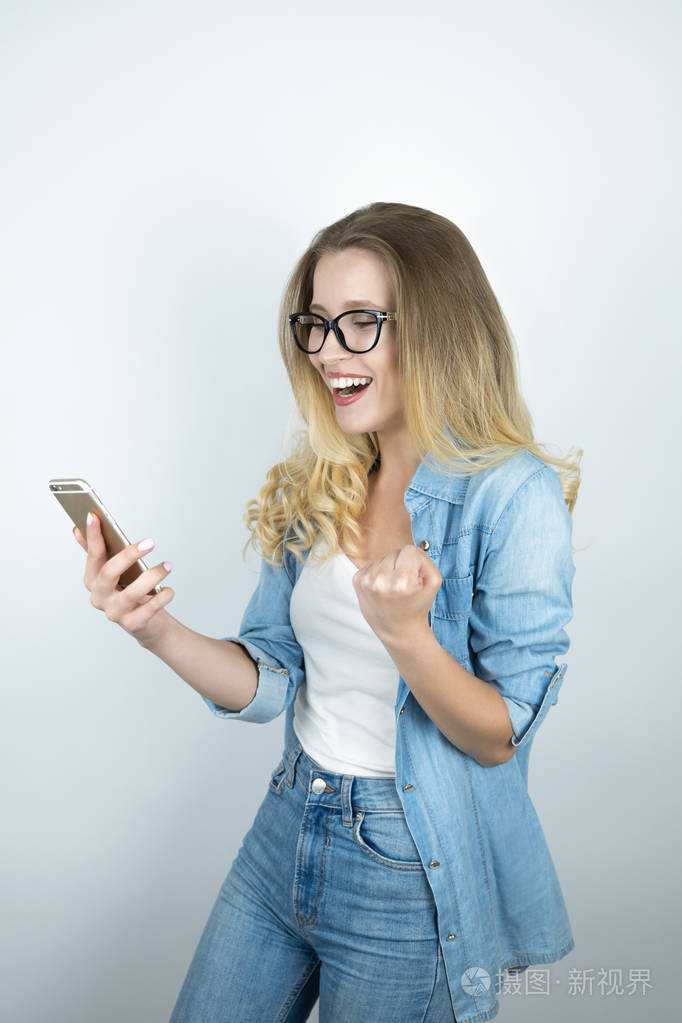no-phone: (352, 542, 443, 629)
reading: (45, 472, 179, 655)
